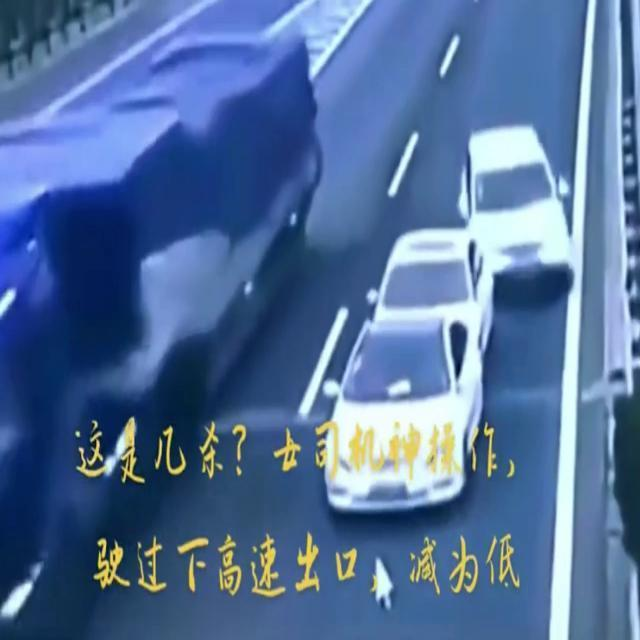accident: (318, 122, 576, 522)
